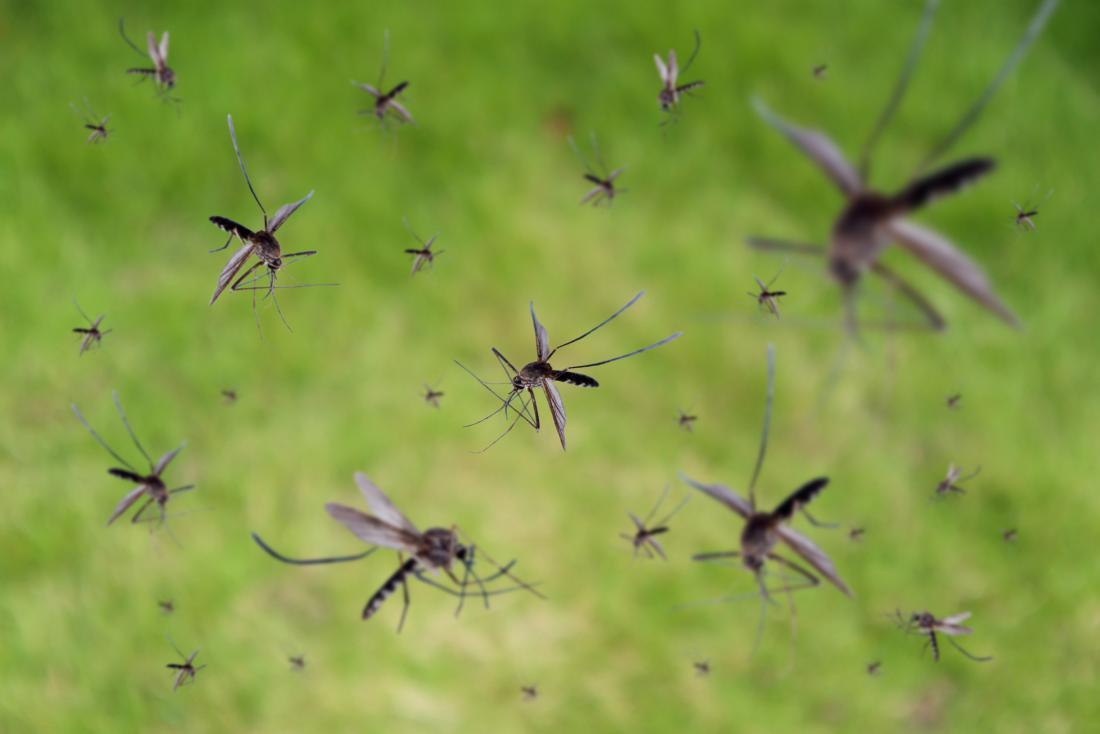Insects: (744, 0, 1079, 374), (240, 462, 562, 635), (688, 349, 861, 657), (167, 95, 355, 354), (452, 282, 695, 454), (59, 395, 200, 544), (547, 110, 649, 227), (892, 582, 1001, 685), (640, 25, 724, 132), (109, 25, 204, 119), (347, 32, 424, 147), (602, 475, 697, 567), (920, 449, 1005, 510), (387, 224, 455, 291), (740, 262, 803, 331), (160, 642, 219, 703), (60, 300, 119, 360), (1000, 189, 1051, 235), (409, 367, 452, 420), (75, 104, 118, 155), (210, 375, 252, 420), (937, 375, 975, 424), (154, 575, 191, 623), (997, 517, 1039, 558), (799, 49, 836, 90), (670, 399, 705, 439), (860, 649, 897, 682), (275, 647, 314, 677), (683, 656, 727, 682), (510, 681, 545, 709)
